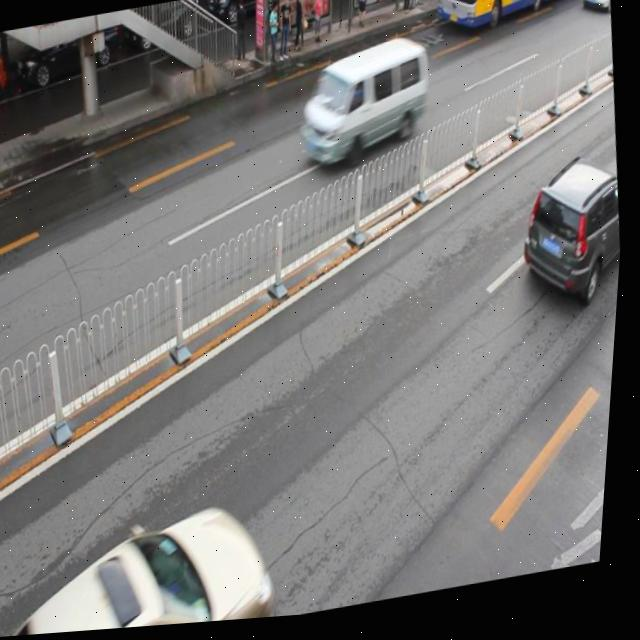car: (0, 500, 289, 639), (513, 156, 630, 318), (10, 12, 123, 93), (120, 0, 201, 54), (203, 0, 282, 33), (0, 39, 13, 115), (576, 0, 613, 22)
truck: (291, 37, 436, 175)
van: (430, 0, 613, 40)
